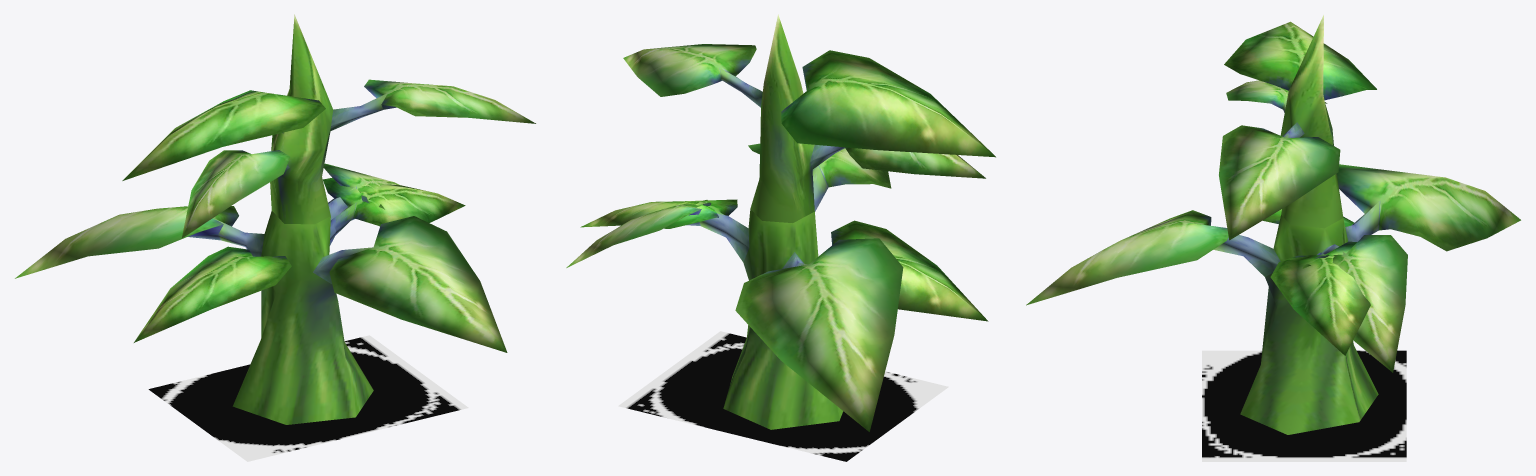
Rendered from Gimmick_GrowthBomb_Root_02.fbx.
3 renders of one model, left to right at view 1: azimuth 30°, elevation 25°; view 2: azimuth 150°, elevation 25°; view 3: azimuth 270°, elevation 25°, orthographic. The views are drawn at different scales.
Parts seen in each view (by area): view 1: Gimmick_Growth_Bomb_02_Point, Gimmick_Growth_Bomb_02_Top, gimmick_shadow, Gimmick_Growth_Bomb001, Gimmick_Growth_Bomb003; view 2: Gimmick_Growth_Bomb_02_Point, Gimmick_Growth_Bomb_02_Top, Gimmick_Growth_Bomb003, gimmick_shadow, Gimmick_Growth_Bomb001; view 3: Gimmick_Growth_Bomb_02_Point, Gimmick_Growth_Bomb_02_Top, gimmick_shadow, Gimmick_Growth_Bomb001, Gimmick_Growth_Bomb003.
Boxes of the visible parts, box(x1,y1,x2,y2) form: Gimmick_Growth_Bomb_02_Point: box(15, 163, 507, 424); Gimmick_Growth_Bomb_02_Top: box(181, 14, 535, 238); gimmick_shadow: box(148, 335, 468, 461); Gimmick_Growth_Bomb001: box(134, 177, 465, 342); Gimmick_Growth_Bomb003: box(122, 90, 325, 180); Gimmick_Growth_Bomb_02_Point: box(566, 143, 903, 431); Gimmick_Growth_Bomb_02_Top: box(623, 14, 985, 222); Gimmick_Growth_Bomb003: box(781, 50, 995, 157); gimmick_shadow: box(618, 331, 948, 461); Gimmick_Growth_Bomb001: box(580, 199, 988, 321); Gimmick_Growth_Bomb_02_Point: box(1026, 164, 1520, 434); Gimmick_Growth_Bomb_02_Top: box(1219, 15, 1343, 240); gimmick_shadow: box(1202, 350, 1406, 461); Gimmick_Growth_Bomb001: box(1263, 209, 1370, 355); Gimmick_Growth_Bomb003: box(1224, 21, 1376, 100).
Size of the model in its own units: 1.1 by 1.03 by 1.18.
